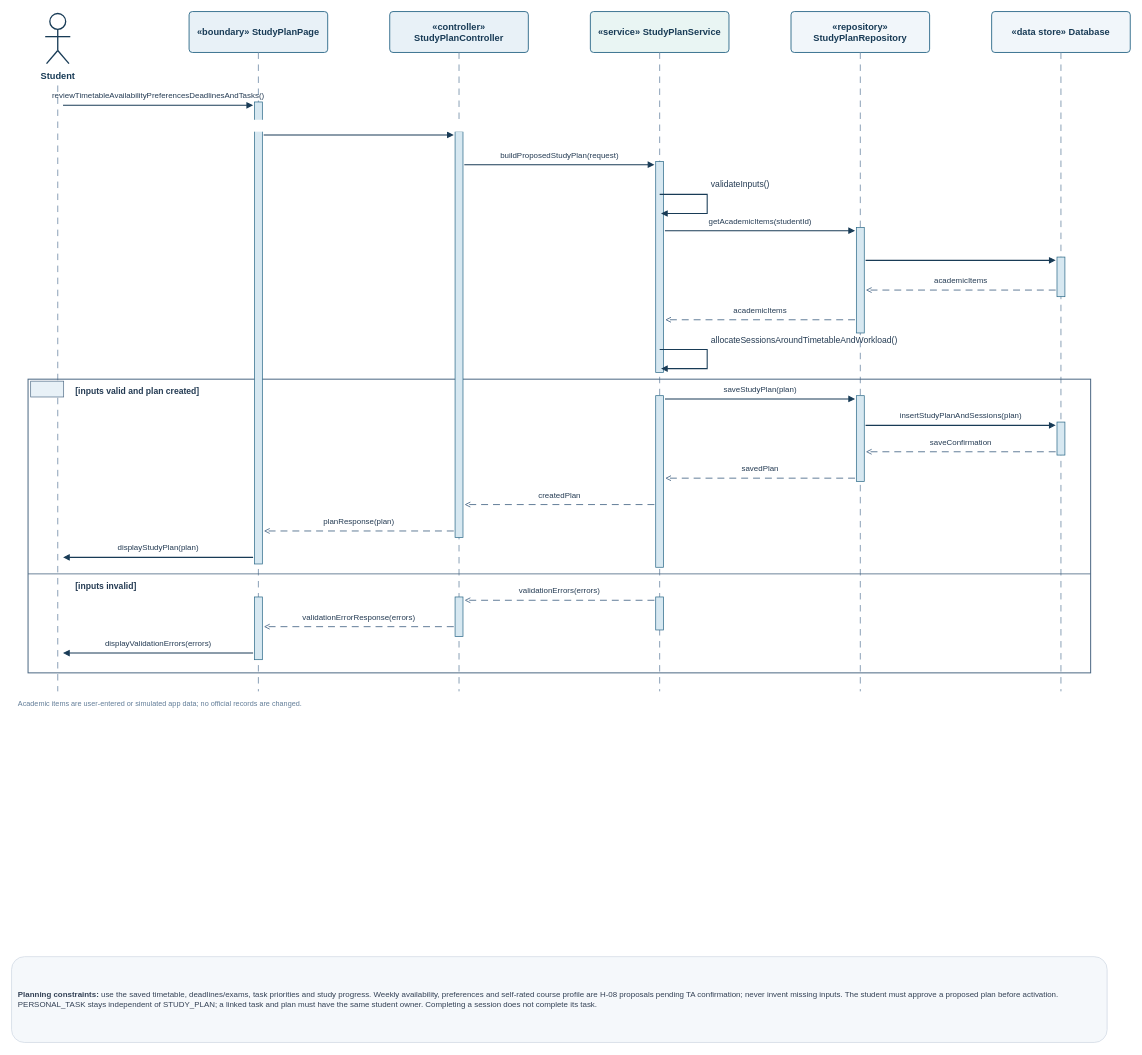
Image size: 1142x1055. Some labels were removed from this diagram. Here are the shapes that lost their labels. From the top down, the centre of each, then its label:
point (358, 125): createStudyPlan(studentId, planningInputs)
point (960, 251): fetchCoursesTasksAndDeadlines(studentId)
point (47, 388): alt
